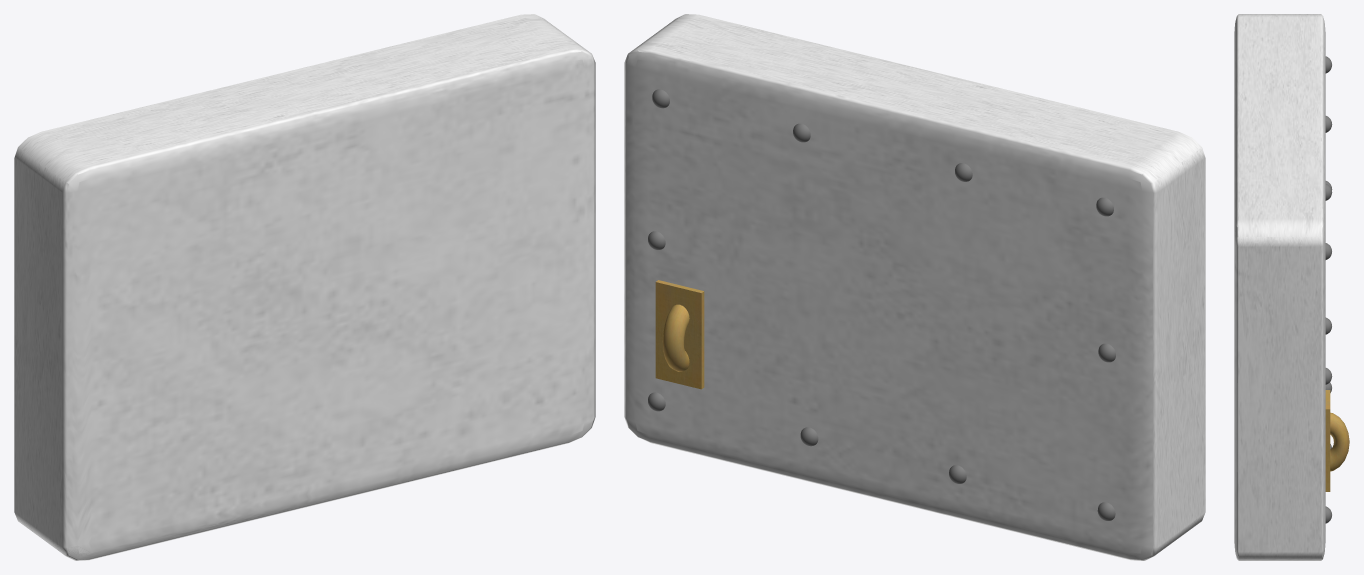
The model's file is refri_puerta_arriba.obj.
The picture shows the model from 3 angles, left to right: view 1: azimuth 30°, elevation 25°; view 2: azimuth 150°, elevation 25°; view 3: azimuth 270°, elevation 25°; orthographic projection. The views are drawn at different scales.
Visible parts, largest first — view 1: pCube10; view 2: pCube10; view 3: pCube10.
Boxes of the visible parts, bbox=[...] form: pCube10: bbox=[14, 14, 595, 560]; pCube10: bbox=[624, 14, 1205, 560]; pCube10: bbox=[1234, 14, 1349, 560].
Size of the model in its own units: 2.9 by 2.04 by 0.6315.
Materials: 3 (2 with a texture image).
